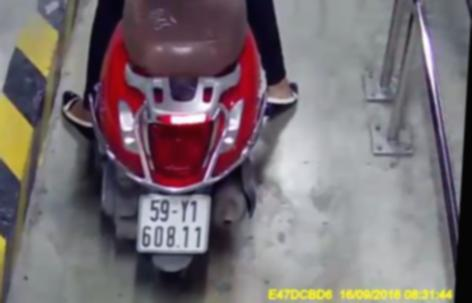License_Plate: (126, 189, 214, 262)
